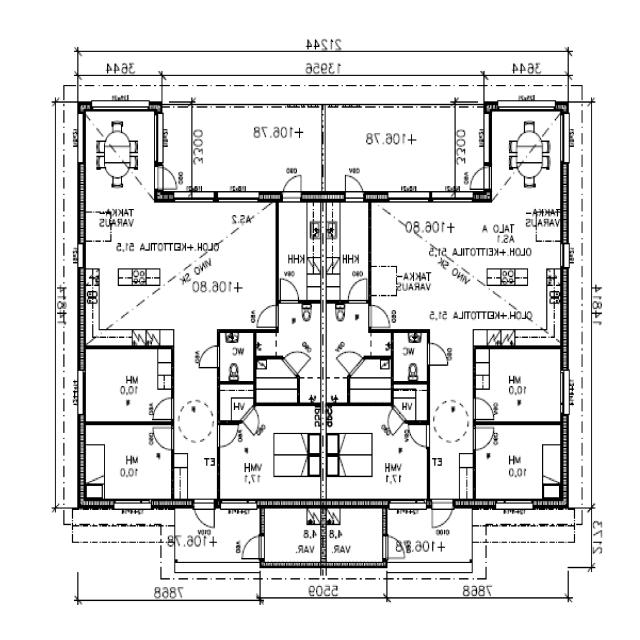door: (336, 343, 364, 377), (432, 499, 454, 536), (381, 406, 406, 436), (464, 167, 492, 189), (345, 170, 364, 202), (382, 536, 407, 560), (408, 426, 430, 448), (427, 343, 449, 365), (368, 306, 390, 328), (473, 429, 494, 451), (473, 398, 494, 420), (348, 279, 366, 304)
